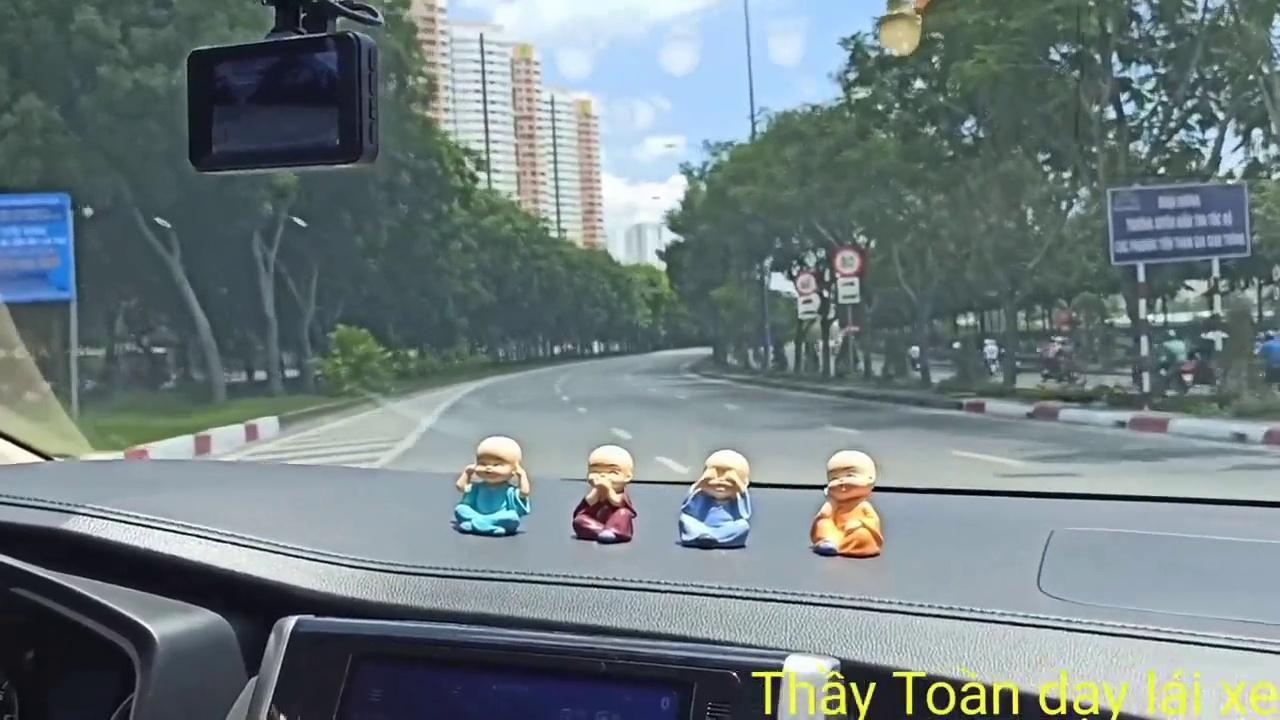Biển phụ: (836, 275, 862, 305), (797, 295, 820, 321)
GIơi hạn tốc độ 60Km/h: (794, 270, 818, 296)
Giới hạn tốc độ 80Km/h: (831, 243, 862, 275)
